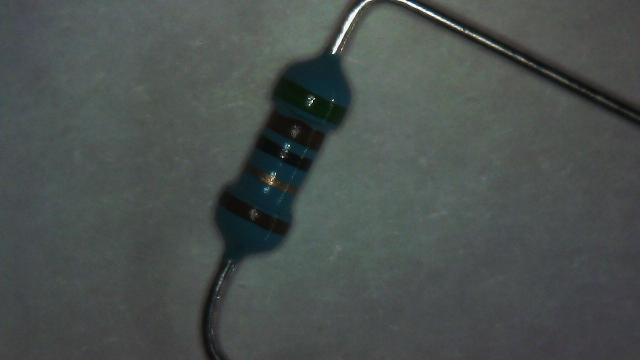black: (256, 135, 312, 170)
brown: (220, 190, 289, 234), (267, 110, 324, 150)
gold: (245, 164, 298, 192)
green: (274, 77, 346, 124)
resistor: (206, 48, 353, 254)
